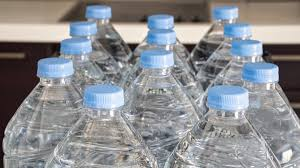Botella: (4, 5, 299, 167)
